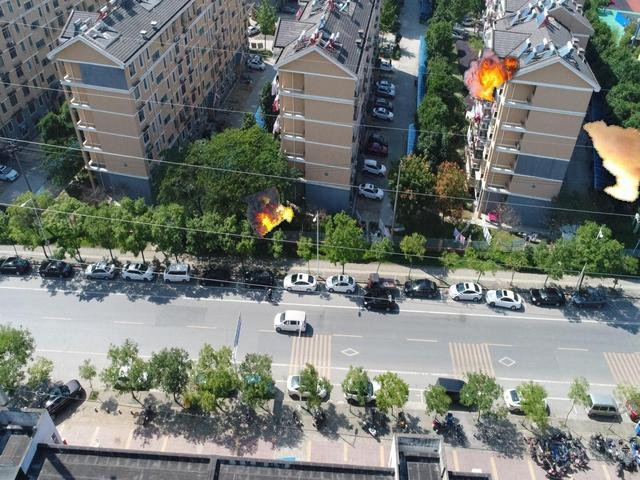fire: (582, 118, 640, 202), (240, 185, 294, 240), (463, 48, 518, 102)
